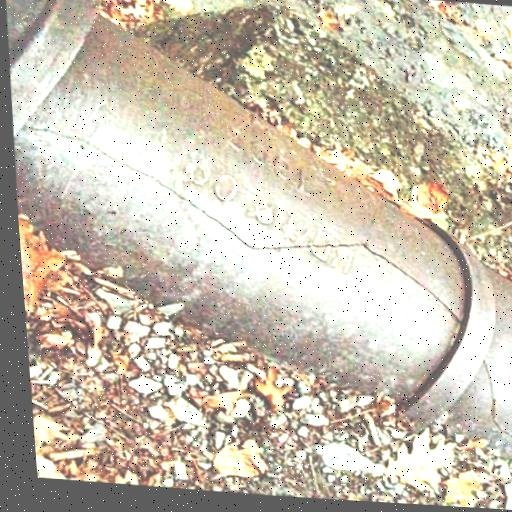crack: (69, 160, 427, 352), (499, 229, 512, 512)
